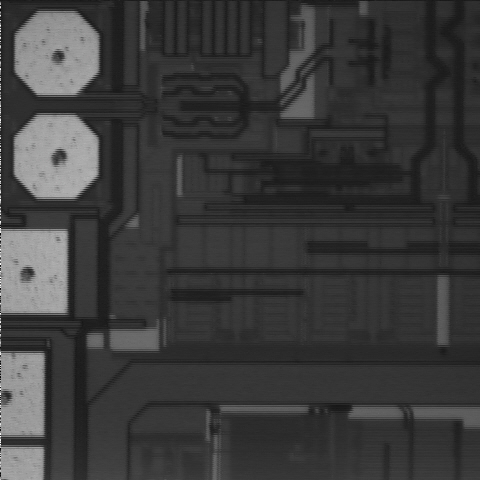pad: (15, 115, 98, 197), (16, 13, 98, 95)
